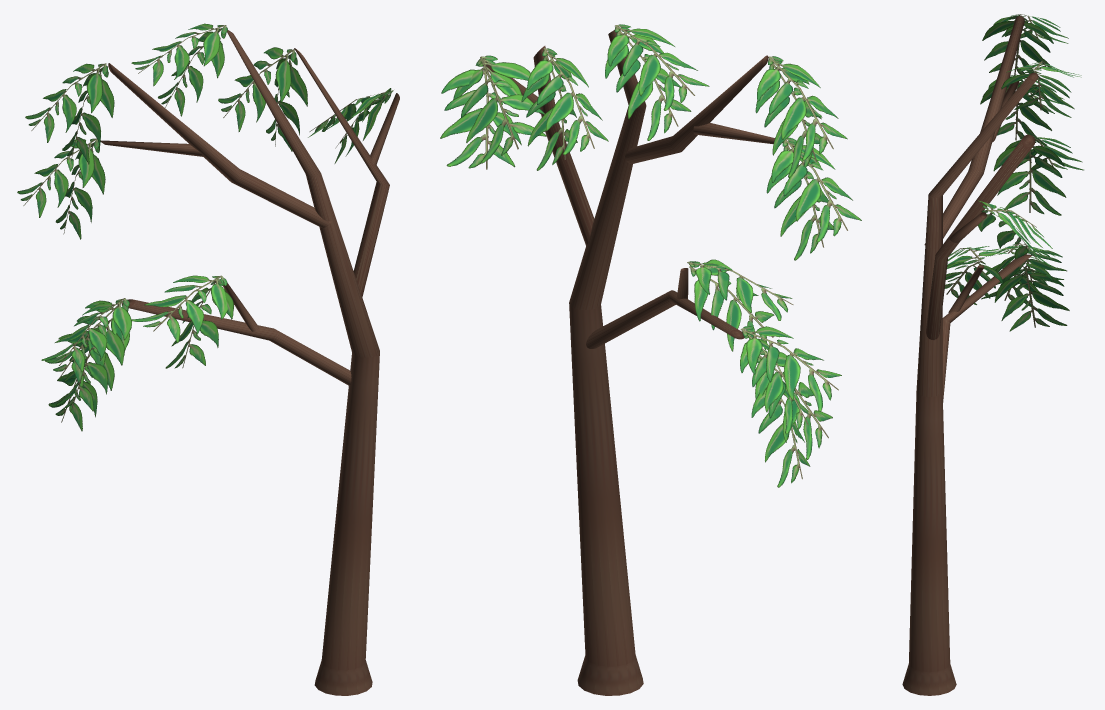
Rendered from Tree.fbx.
3 views of the same model, side by side, from view 1: azimuth 30°, elevation 25°; view 2: azimuth 150°, elevation 25°; view 3: azimuth 270°, elevation 25° (orthographic). The views are drawn at different scales.
Parts seen in each view (by area): view 1: Tree; view 2: Tree; view 3: Tree.
Part boxes in pixels (<box>): Tree: <box>17,23,399,695</box>; Tree: <box>440,24,861,695</box>; Tree: <box>902,14,1083,695</box>.
Size of the model in its own units: 132 by 213 by 61.89.
